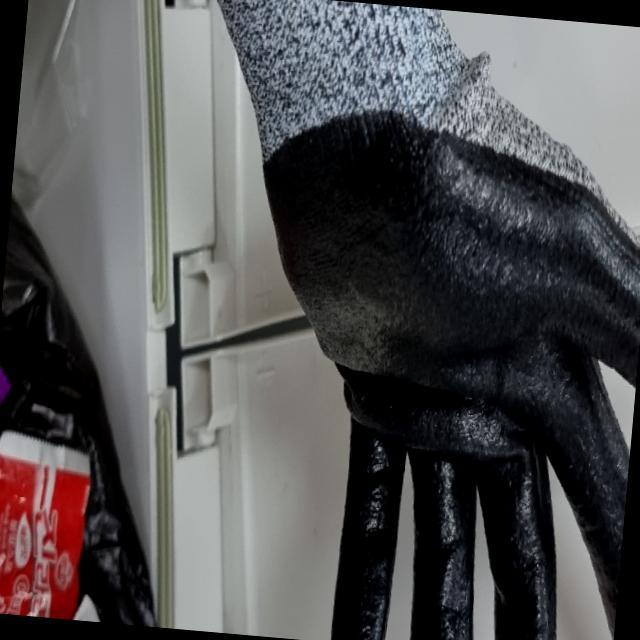Gloves: (215, 0, 640, 640)
